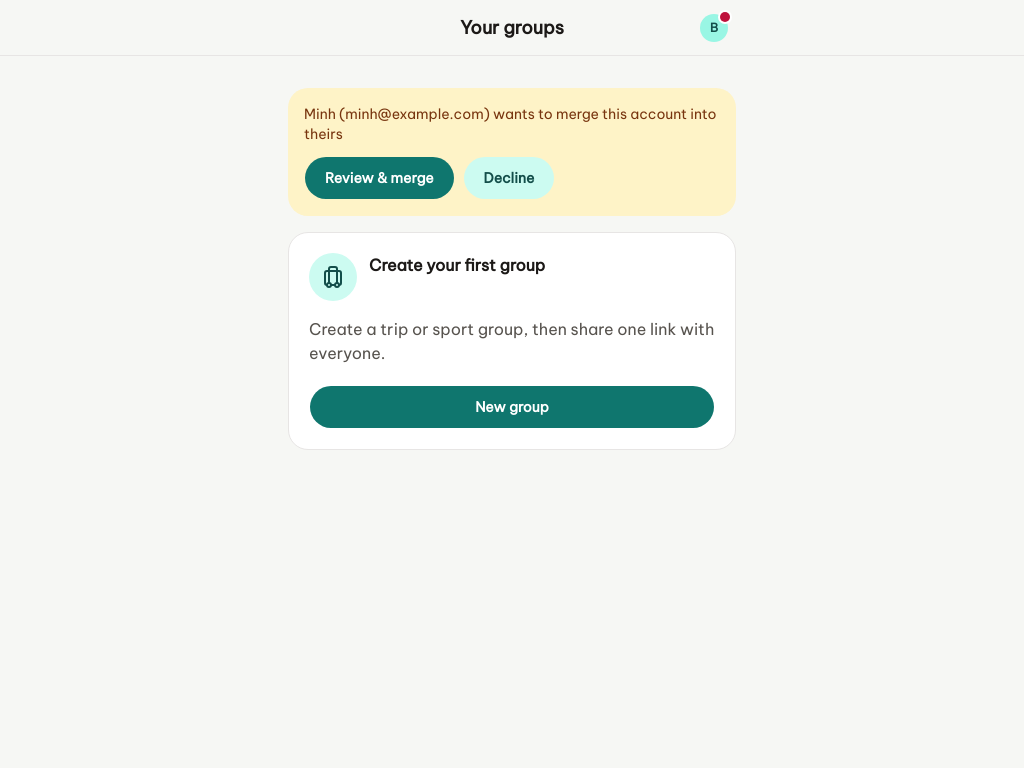
Scenario: merge request › accepting clears the cache and refetches me
Click the button "Review & merge" at (379, 178), box [304,156,454,200]
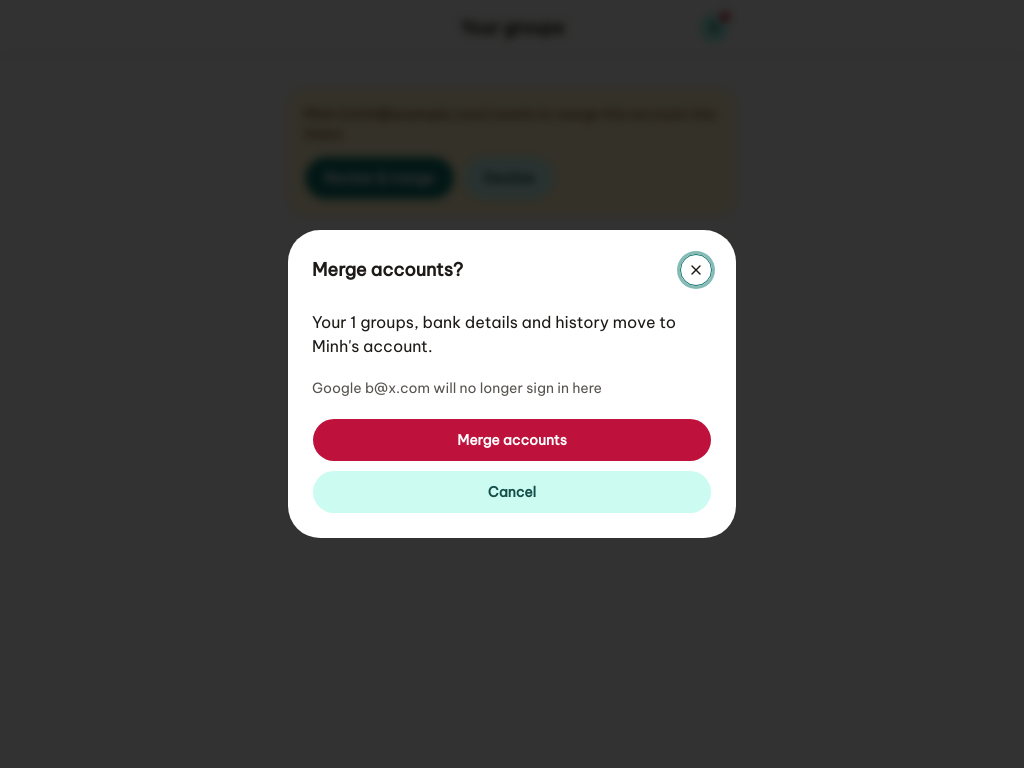
Click the button "Merge accounts" at (512, 440), box [312,418,712,462]
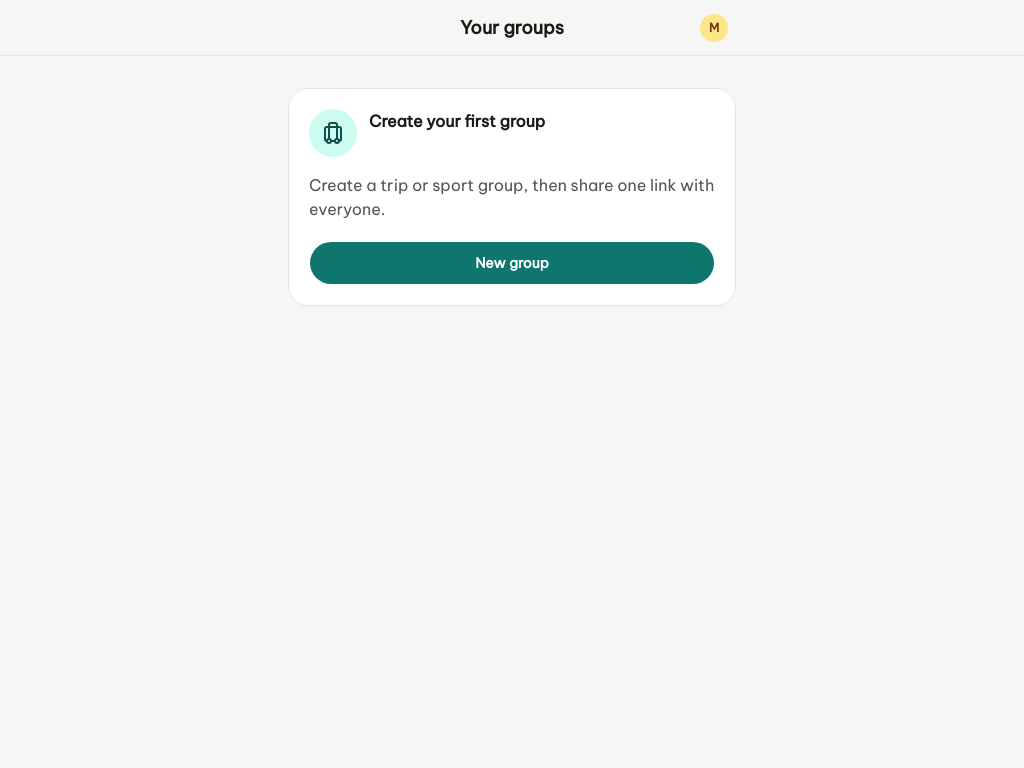
Expected: the text "Minh (minh@example.com) wants to merge this account into theirs" is gone
